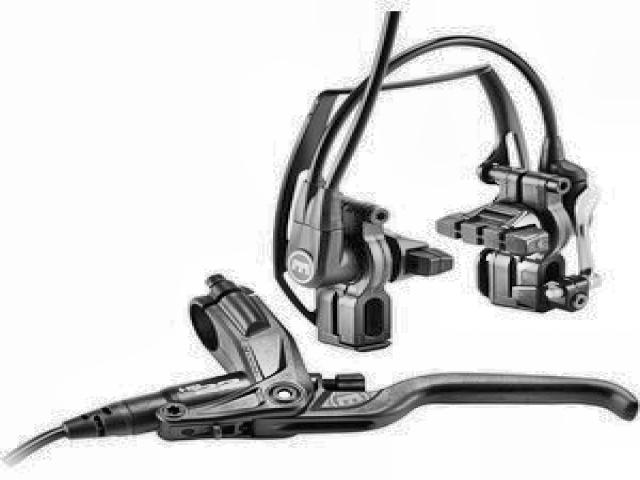rim_brake: (264, 30, 600, 353)
